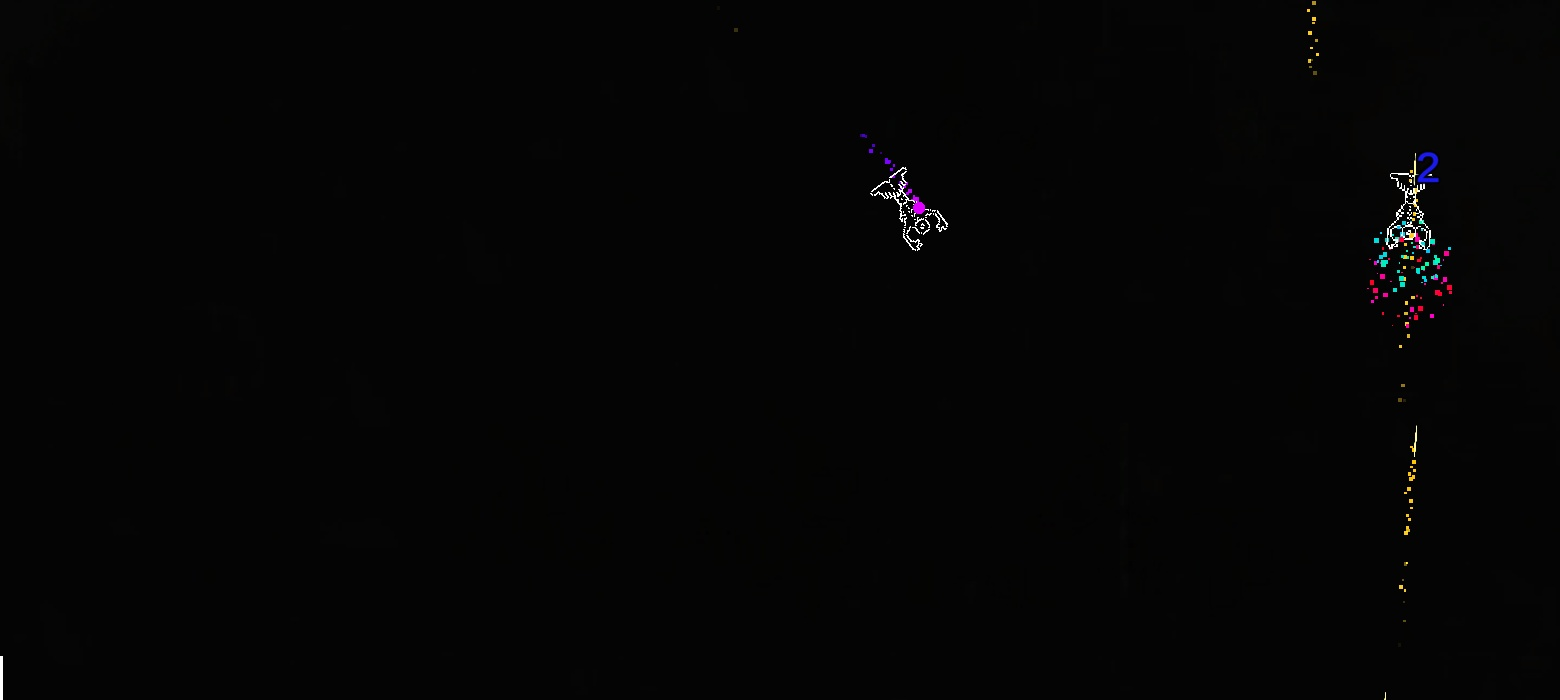enemy: (870, 167, 948, 251), (1386, 173, 1432, 250)
